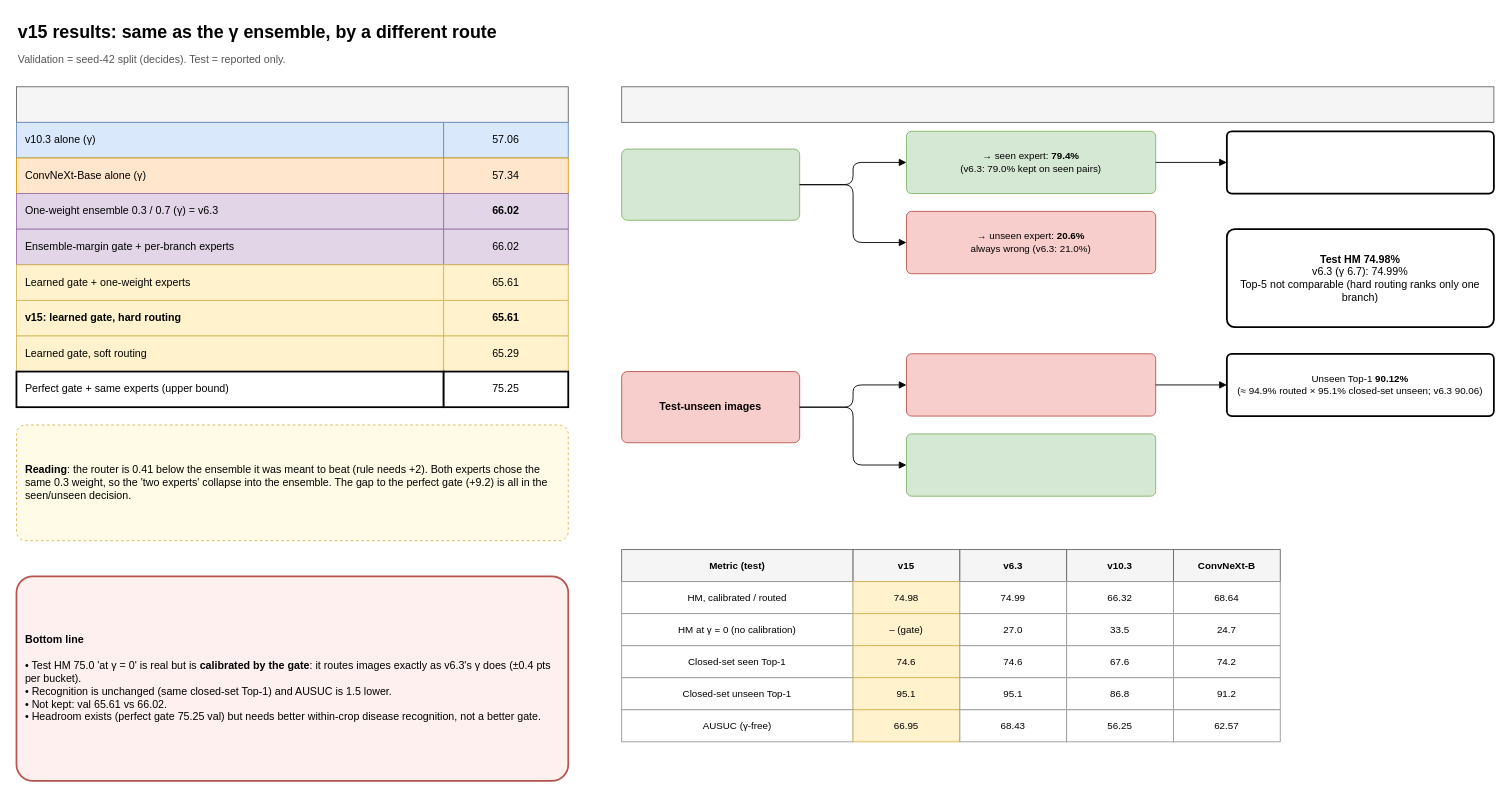
Some shapes in this 1509 by 797 pixel diagram are drawn without their labels. The centre of each missing label's shape, as x and y in pixels:
"Seen Top-1 64.20% (v6.3 64.25)" belongs at point 1360,162.
"Test-seen images" belongs at point 710,184.
"Test: where the images went (v15 gate vs v6.3 with γ = 6.7)" belongs at point 1057,104.
"Validation HM (%), same images" belongs at point 292,104.
"→ seen expert: 5.1% always wrong (v6.3: 5.2%)" belongs at point 1031,464.
"→ unseen expert: 94.9% (v6.3: 94.8%)" belongs at point 1031,384.
